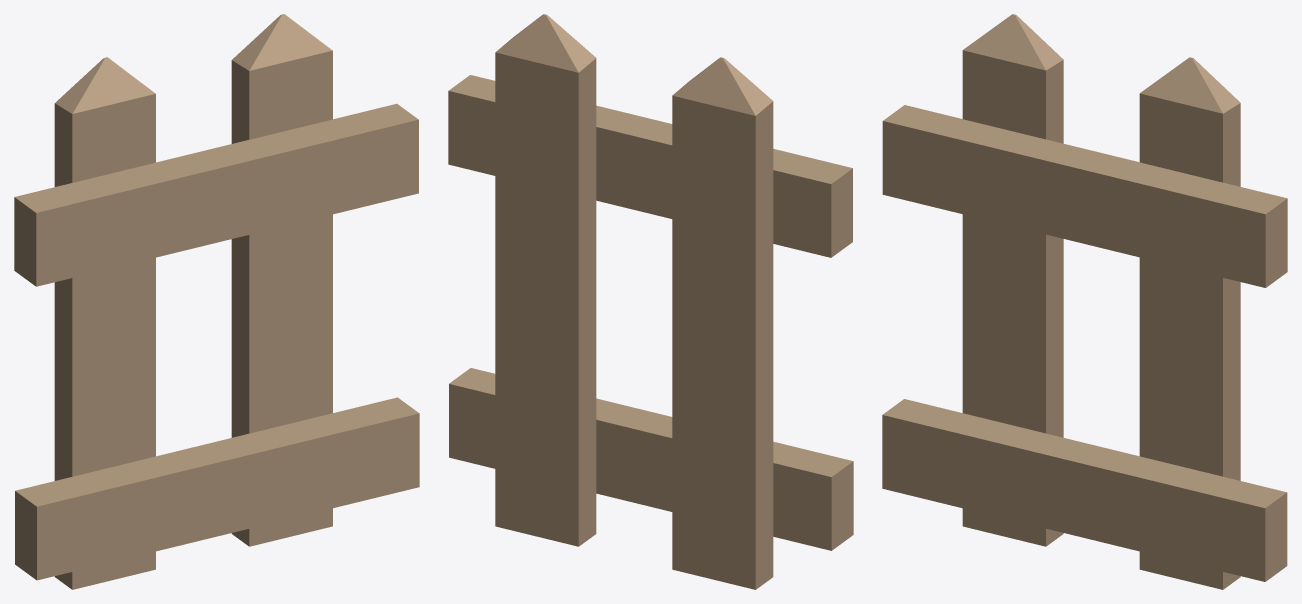
File: latest fence planks.fbx
3 views of the same model, side by side, from view 1: azimuth 30°, elevation 25°; view 2: azimuth 150°, elevation 25°; view 3: azimuth 330°, elevation 25° (orthographic).
Parts seen in each view (by area): view 1: polySurface3; view 2: polySurface3; view 3: polySurface3.
Boxes of the visible parts, x1,y1,x2,y2 form: polySurface3: (14, 14, 419, 589); polySurface3: (448, 14, 853, 589); polySurface3: (882, 14, 1287, 589).
Size of the model in its own units: 184 by 237 by 33.27.
